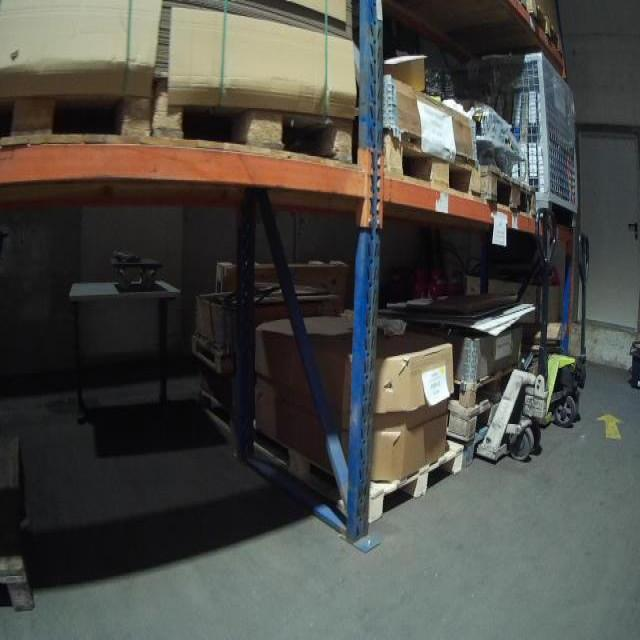pallet: (249, 422, 464, 526), (150, 76, 360, 175), (0, 79, 156, 155), (377, 129, 482, 204), (479, 164, 536, 219), (450, 371, 518, 410), (524, 0, 563, 55), (190, 331, 238, 375)
pallet_truck: (465, 200, 567, 467), (546, 227, 607, 422)
stillage: (449, 40, 584, 221)
